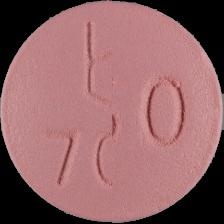0555-0701: (0, 0, 224, 224)
